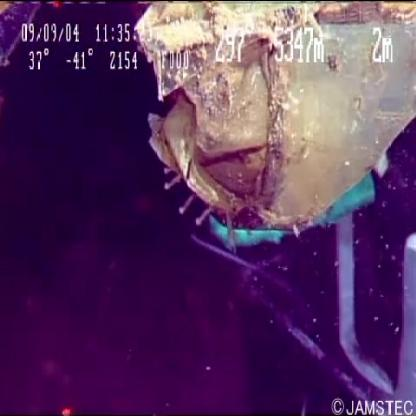Rác: (122, 1, 416, 231)
